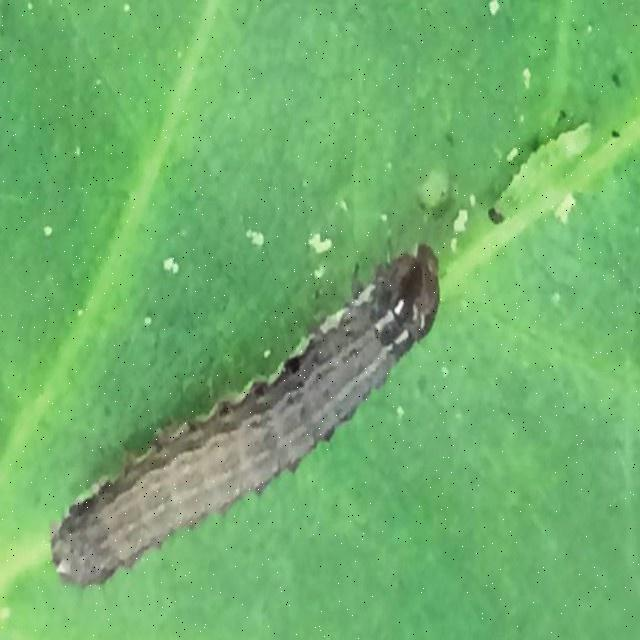worm: (50, 244, 442, 593)
